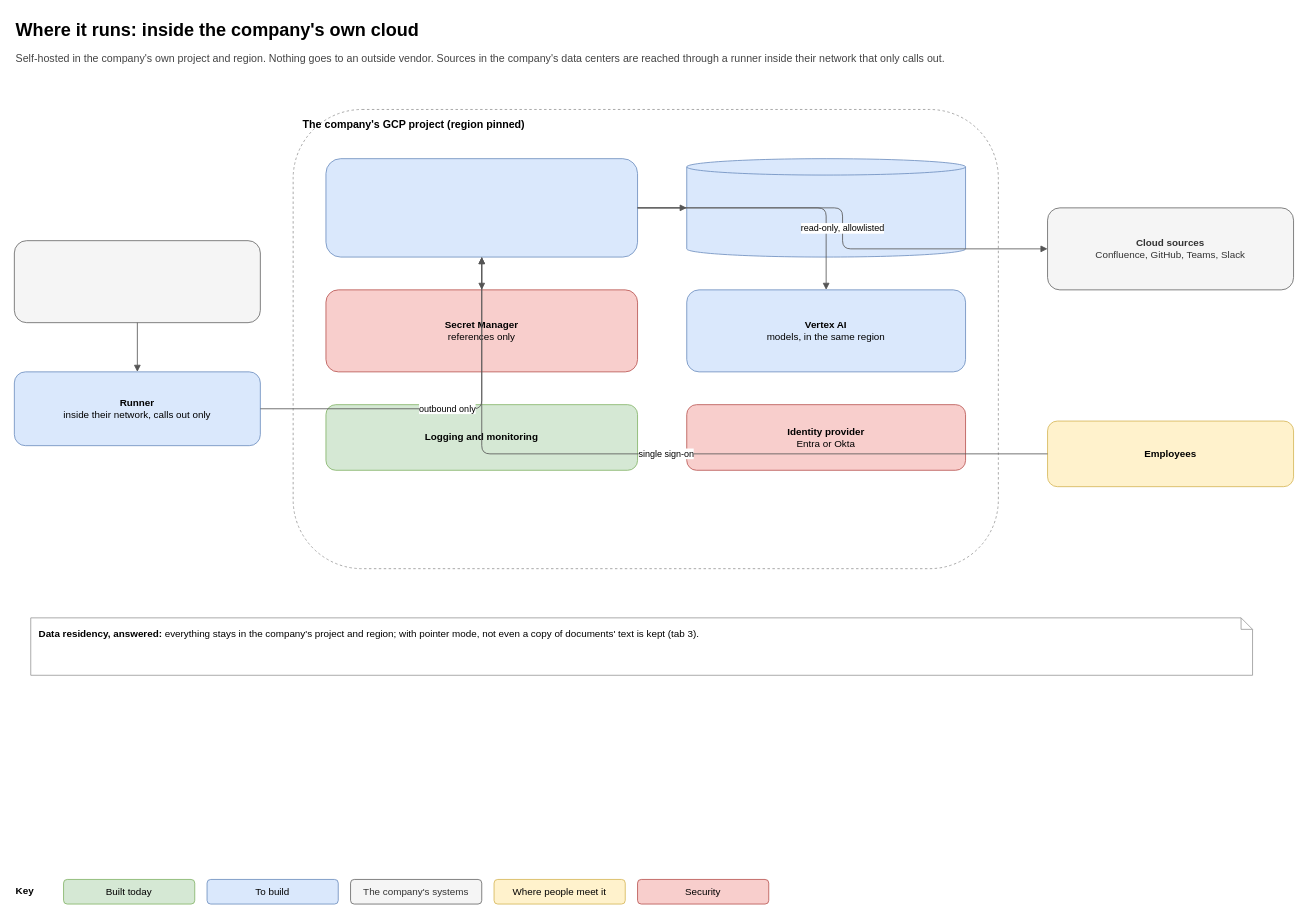
Some shapes in this 1308 by 918 pixel diagram are drawn without their labels. The shapes that lost their labels are listed below. From the top down, each one's centre as x and y in pixels, then its label:
At (481,207): "Kubernetes (GKE) web app, API, worker, MCP server, permissions".
At (826,207): "Cloud SQL Postgres with pgvector".
At (137,281): "The company's data centers EDW, Control-M".
